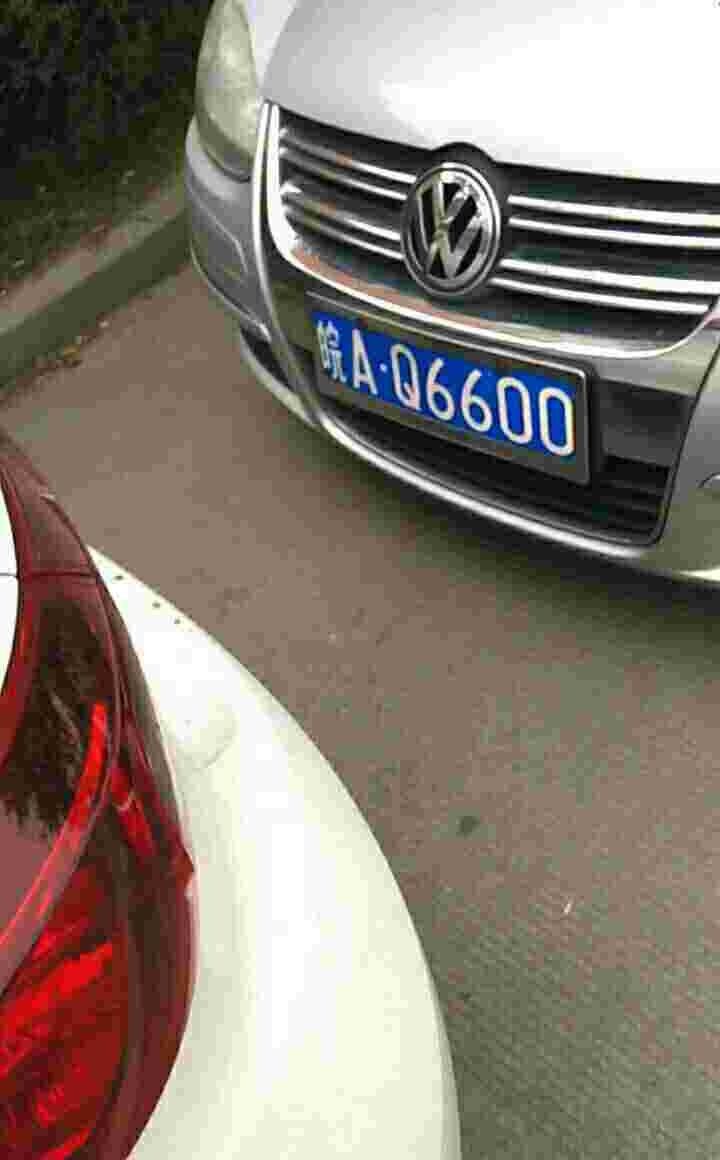license_plate: (306, 303, 594, 462)
